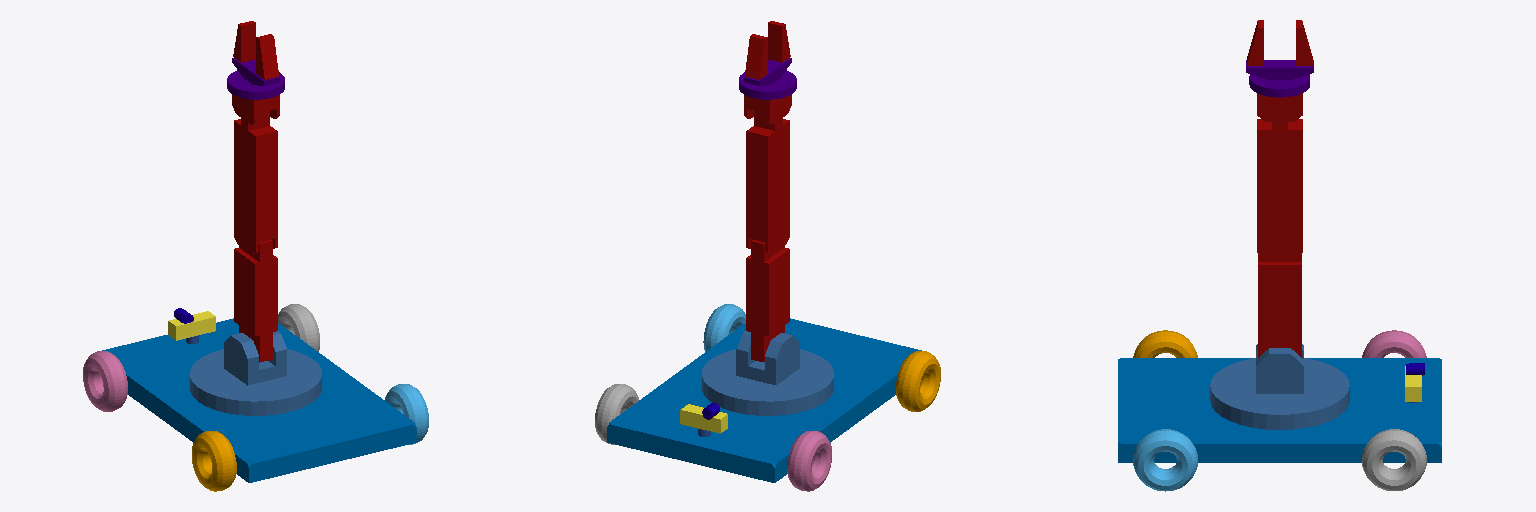
URDF robot description (arm_v2):
<?xml version="1.0"?>
<!-- created with Phobos 1.0.1 "Capricious Choutengan" -->
  <robot name="arm_v2">

    <link name="Back_L">
      <inertial>
        <origin xyz="0 0 0" rpy="0 0 0"/>
        <mass value="0.001"/>
        <inertia ixx="0.001" ixy="0" ixz="0" iyy="0.001" iyz="0" izz="0.001"/>
      </inertial>
      <visual name="Back_wheel_L">
        <origin xyz="0 0 0" rpy="0 0 0"/>
        <geometry>
          <mesh filename="package://my_arm_description/meshes/dae/Torus.002.dae" scale="0.53225 0.53225 0.6753"/>
        </geometry>
      </visual>
      <collision name="Back_wheel_L.000">
        <origin xyz="0 0 0" rpy="0 0 0"/>
        <geometry>
          <mesh filename="package://my_arm_description/meshes/dae/Torus.001.dae" scale="1.0 1.0 1.0"/>
        </geometry>
      </collision>
    </link>

    <link name="Back_R">
      <inertial>
        <origin xyz="0 0 0" rpy="0 0 0"/>
        <mass value="0.001"/>
        <inertia ixx="0.001" ixy="0" ixz="0" iyy="0.001" iyz="0" izz="0.001"/>
      </inertial>
      <visual name="Back_wheel_R">
        <origin xyz="0 0 0" rpy="0 0 0"/>
        <geometry>
          <mesh filename="package://my_arm_description/meshes/dae/Torus.005.dae" scale="0.53225 0.53225 0.6753"/>
        </geometry>
      </visual>
      <collision name="Back_wheel_R.000">
        <origin xyz="0 0 0" rpy="0 0 0"/>
        <geometry>
          <mesh filename="package://my_arm_description/meshes/dae/Torus.000.dae" scale="1.0 1.0 1.0"/>
        </geometry>
      </collision>
    </link>

    <link name="Base">
      <inertial>
        <origin xyz="0 0 0" rpy="0 0 0"/>
        <mass value="0.001"/>
        <inertia ixx="0.001" ixy="0" ixz="0" iyy="0.001" iyz="0" izz="0.001"/>
      </inertial>
      <visual name="Base Link">
        <origin xyz="0 0 0" rpy="0 0 0"/>
        <geometry>
          <mesh filename="package://my_arm_description/meshes/dae/Circle.dae" scale="1.68886 1.68886 1.68886"/>
        </geometry>
        <material name="Material.003"/>
      </visual>
    </link>

    <link name="Base_Link">
      <inertial>
        <origin xyz="0 0 0" rpy="0 0 0"/>
        <mass value="0.001"/>
        <inertia ixx="0.001" ixy="0" ixz="0" iyy="0.001" iyz="0" izz="0.001"/>
      </inertial>
      <visual name="Base Joint">
        <origin xyz="0 0 0" rpy="0 0 0"/>
        <geometry>
          <mesh filename="package://my_arm_description/meshes/dae/Plane.001.dae" scale="0.58732 0.58732 0.58732"/>
        </geometry>
        <material name="Material.003"/>
      </visual>
    </link>

    <link name="Chassis">
      <inertial>
        <origin xyz="0 0 0" rpy="0 0 0"/>
        <mass value="0.001"/>
        <inertia ixx="0.001" ixy="0" ixz="0" iyy="0.001" iyz="0" izz="0.001"/>
      </inertial>
      <visual name="Chassis.001">
        <origin xyz="0 0 0" rpy="0 0 0"/>
        <geometry>
          <mesh filename="package://my_arm_description/meshes/dae/Plane.dae" scale="2.0198 2.0198 2.0198"/>
        </geometry>
      </visual>
      <collision name="Chassis.001">
        <origin xyz="0 0 0.23159" rpy="0 0 0"/>
        <geometry>
          <box size="4.91757 7.82779 0.52576"/>
        </geometry>
      </collision>
    </link>

    <link name="Elbow">
      <inertial>
        <origin xyz="0 0 0" rpy="0 0 0"/>
        <mass value="0.001"/>
        <inertia ixx="0.001" ixy="0" ixz="0" iyy="0.001" iyz="0" izz="0.001"/>
      </inertial>
      <visual name="Elbow.001">
        <origin xyz="0 0 0" rpy="0 0 0"/>
        <geometry>
          <mesh filename="package://my_arm_description/meshes/dae/Plane.002.dae" scale="0.32111 0.55187 0.37191"/>
        </geometry>
        <material name="Material.004"/>
      </visual>
    </link>

    <link name="Front_L">
      <inertial>
        <origin xyz="0 0 0" rpy="0 0 0"/>
        <mass value="0.001"/>
        <inertia ixx="0.001" ixy="0" ixz="0" iyy="0.001" iyz="0" izz="0.001"/>
      </inertial>
      <visual name="Front_Wheel_L">
        <origin xyz="0 0 0" rpy="0 0 0"/>
        <geometry>
          <mesh filename="package://my_arm_description/meshes/dae/Torus.007.dae" scale="0.53225 0.53225 0.6753"/>
        </geometry>
      </visual>
      <collision name="Front_Wheel_L.000">
        <origin xyz="0 0 0" rpy="0 0 0"/>
        <geometry>
          <mesh filename="package://my_arm_description/meshes/dae/Torus.004.dae" scale="1.0 1.0 1.0"/>
        </geometry>
      </collision>
    </link>

    <link name="Front_R">
      <inertial>
        <origin xyz="0 0 0" rpy="0 0 0"/>
        <mass value="0.001"/>
        <inertia ixx="0.001" ixy="0" ixz="0" iyy="0.001" iyz="0" izz="0.001"/>
      </inertial>
      <visual name="Front_Wheel_R">
        <origin xyz="0 0 0" rpy="0 0 0"/>
        <geometry>
          <mesh filename="package://my_arm_description/meshes/dae/Torus.008.dae" scale="0.53225 0.53225 0.6753"/>
        </geometry>
      </visual>
      <collision name="Front_Wheel_R.000">
        <origin xyz="0 0 0" rpy="0 0 0"/>
        <geometry>
          <mesh filename="package://my_arm_description/meshes/dae/Torus.003.dae" scale="1.0 1.0 1.0"/>
        </geometry>
      </collision>
    </link>

    <link name="Gripper_Base">
      <inertial>
        <origin xyz="0 0 0" rpy="0 0 0"/>
        <mass value="0.001"/>
        <inertia ixx="0.001" ixy="0" ixz="0" iyy="0.001" iyz="0" izz="0.001"/>
      </inertial>
      <visual name="Gripper Base">
        <origin xyz="0 0 0" rpy="0 0 0"/>
        <geometry>
          <mesh filename="package://my_arm_description/meshes/dae/Plane.005.dae" scale="0.64948 0.64948 0.64948"/>
        </geometry>
        <material name="Black"/>
      </visual>
    </link>

    <link name="Gripper_L">
      <inertial>
        <origin xyz="0 0 0" rpy="0 0 0"/>
        <mass value="0.001"/>
        <inertia ixx="0.001" ixy="0" ixz="0" iyy="0.001" iyz="0" izz="0.001"/>
      </inertial>
      <visual name="Gripper_L.001">
        <origin xyz="0 0 0" rpy="0 0 0"/>
        <geometry>
          <mesh filename="package://my_arm_description/meshes/dae/Plane.003.dae" scale="0.78569 0.78569 0.78569"/>
        </geometry>
        <material name="Material.004"/>
      </visual>
    </link>

    <link name="Gripper_R">
      <inertial>
        <origin xyz="0 0 0" rpy="0 0 0"/>
        <mass value="0.001"/>
        <inertia ixx="0.001" ixy="0" ixz="0" iyy="0.001" iyz="0" izz="0.001"/>
      </inertial>
      <visual name="Gripper_R.001">
        <origin xyz="0 0 0" rpy="0 0 0"/>
        <geometry>
          <mesh filename="package://my_arm_description/meshes/dae/Plane.007.dae" scale="0.78569 -0.78569 0.78569"/>
        </geometry>
        <material name="Material.004"/>
      </visual>
    </link>

    <link name="Sensor">
      <inertial>
        <origin xyz="0 0 0" rpy="0 0 0"/>
        <mass value="0.001"/>
        <inertia ixx="0.001" ixy="0" ixz="0" iyy="0.001" iyz="0" izz="0.001"/>
      </inertial>
      <visual name="Cube">
        <origin xyz="0 0.00063 0.15515" rpy="0 0 0"/>
        <geometry>
          <mesh filename="package://my_arm_description/meshes/dae/Cube.002.dae" scale="0.58884 0.20167 0.20167"/>
        </geometry>
      </visual>
      <visual name="Left_eye">
        <origin xyz="-0.20507 0.0194 0.43971" rpy="1.5708 0 0"/>
        <geometry>
          <cylinder radius="0.148" length="0.39103"/>
        </geometry>
        <material name="Material.001"/>
      </visual>
      <visual name="Right_eye">
        <origin xyz="-0.24517 0.08001 0.45292" rpy="1.5708 0 0"/>
        <geometry>
          <cylinder radius="0.148" length="0.39103"/>
        </geometry>
        <material name="Material.001"/>
      </visual>
      <visual name="Sensor.001">
        <origin xyz="0 0 0" rpy="0 0 0"/>
        <geometry>
          <cylinder radius="0.16173" length="0.71109"/>
        </geometry>
        <material name="turnarrow"/>
      </visual>
      <collision name="Cube">
        <origin xyz="0 0.00063 0.15515" rpy="0 0 0"/>
        <geometry>
          <box size="1.17768 0.40335 0.40335"/>
        </geometry>
      </collision>
    </link>

    <link name="Shoulder">
      <inertial>
        <origin xyz="0 0 0" rpy="0 0 0"/>
        <mass value="0.001"/>
        <inertia ixx="0.001" ixy="0" ixz="0" iyy="0.001" iyz="0" izz="0.001"/>
      </inertial>
      <visual name="Arm link">
        <origin xyz="0 0 0" rpy="0 0 0"/>
        <geometry>
          <mesh filename="package://my_arm_description/meshes/dae/Cube.001.dae" scale="0.19211 0.52371 0.19211"/>
        </geometry>
        <material name="Material.004"/>
      </visual>
    </link>

    <link name="Wrist">
      <inertial>
        <origin xyz="0 0 0" rpy="0 0 0"/>
        <mass value="0.001"/>
        <inertia ixx="0.001" ixy="0" ixz="0" iyy="0.001" iyz="0" izz="0.001"/>
      </inertial>
      <visual name="Wrist link">
        <origin xyz="0 0 0" rpy="0 0 0"/>
        <geometry>
          <mesh filename="package://my_arm_description/meshes/dae/Circle.001.dae" scale="1.0 1.0 1.0"/>
        </geometry>
        <material name="Black"/>
      </visual>
    </link>

    <link name="Wrist_Link">
      <inertial>
        <origin xyz="0 0 0" rpy="0 0 0"/>
        <mass value="0.001"/>
        <inertia ixx="0.001" ixy="0" ixz="0" iyy="0.001" iyz="0" izz="0.001"/>
      </inertial>
      <visual name="Wrist Joint">
        <origin xyz="0 0 0" rpy="0 0 0"/>
        <geometry>
          <mesh filename="package://my_arm_description/meshes/dae/Plane.004.dae" scale="0.55526 0.55526 0.55526"/>
        </geometry>
        <material name="Material.004"/>
      </visual>
    </link>

    <joint name="Back_L" type="continuous">
      <origin xyz="-2.82349 -2.76626 0.21895" rpy="1.5708 0 1.5708"/>
      <parent link="Chassis"/>
      <child link="Back_L"/>
      <axis xyz="0 0 1.0"/>
      <limit effort="0" velocity="0"/>
    </joint>

    <joint name="Back_R" type="continuous">
      <origin xyz="2.82626 -2.76626 0.21895" rpy="1.5708 0 1.5708"/>
      <parent link="Chassis"/>
      <child link="Back_R"/>
      <axis xyz="0 0 1.0"/>
      <limit effort="0" velocity="0"/>
    </joint>

    <joint name="Base" type="continuous">
      <origin xyz="0 0 0.49075" rpy="0 0 0"/>
      <parent link="Chassis"/>
      <child link="Base"/>
      <axis xyz="0 0 1.0"/>
      <limit effort="0" velocity="0"/>
    </joint>

    <joint name="Base_Link" type="fixed">
      <origin xyz="0 0 0.44296" rpy="0 0 0"/>
      <parent link="Base"/>
      <child link="Base_Link"/>
    </joint>

    <joint name="Elbow" type="revolute">
      <origin xyz="-0.00527 -0.00012 3.29883" rpy="0 0 0"/>
      <parent link="Shoulder"/>
      <child link="Elbow"/>
      <axis xyz="0 1.0 0"/>
      <limit lower="-1.0472" upper="1.0472" effort="0" velocity="0"/>
    </joint>

    <joint name="Front_L" type="continuous">
      <origin xyz="-2.82349 2.76626 0.21895" rpy="1.5708 0 1.5708"/>
      <parent link="Chassis"/>
      <child link="Front_L"/>
      <axis xyz="0 0 1.0"/>
      <limit effort="0" velocity="0"/>
    </joint>

    <joint name="Front_R" type="continuous">
      <origin xyz="2.82349 2.76626 0.21895" rpy="1.5708 0 1.5708"/>
      <parent link="Chassis"/>
      <child link="Front_R"/>
      <axis xyz="0 0 1.0"/>
      <limit effort="0" velocity="0"/>
    </joint>

    <joint name="Gripper_Base" type="fixed">
      <origin xyz="0 0 0.22154" rpy="0 0 0"/>
      <parent link="Wrist"/>
      <child link="Gripper_Base"/>
    </joint>

    <joint name="Gripper_L" type="prismatic">
      <origin xyz="0 -0.5924 0.36401" rpy="0 0 0"/>
      <parent link="Gripper_Base"/>
      <child link="Gripper_L"/>
      <axis xyz="0 -1.0 0"/>
      <limit lower="-0.355" upper="0" effort="0" velocity="0"/>
    </joint>

    <joint name="Gripper_R" type="prismatic">
      <origin xyz="0 0.59447 0.36401" rpy="0 0 0"/>
      <parent link="Gripper_Base"/>
      <child link="Gripper_R"/>
      <axis xyz="0 1.0 0"/>
      <limit lower="-0.355" upper="0" effort="0" velocity="0"/>
    </joint>

    <joint name="Sensor" type="revolute">
      <origin xyz="0 3.23307 0.77739" rpy="0 0 0"/>
      <parent link="Chassis"/>
      <child link="Sensor"/>
      <axis xyz="0 0 1.0"/>
      <limit lower="-1.5572" upper="1.5572" effort="0" velocity="0"/>
    </joint>

    <joint name="Shoulder" type="revolute">
      <origin xyz="0 0 0.72067" rpy="0 0 0"/>
      <parent link="Base_Link"/>
      <child link="Shoulder"/>
      <axis xyz="0 1.0 0"/>
      <limit lower="-0.52" upper="0.52" effort="0" velocity="0"/>
    </joint>

    <joint name="Wrist" type="continuous">
      <origin xyz="0 0 0.76917" rpy="0 0 0"/>
      <parent link="Wrist_Link"/>
      <child link="Wrist"/>
      <axis xyz="0 0 1.0"/>
      <limit effort="0" velocity="0"/>
    </joint>

    <joint name="Wrist_Link" type="revolute">
      <origin xyz="0.01262 -0.00092 3.20476" rpy="0 0 0"/>
      <parent link="Elbow"/>
      <child link="Wrist_Link"/>
      <axis xyz="0 1.0 0"/>
      <limit lower="-1.5572" upper="1.5572" effort="0" velocity="0"/>
    </joint>

    <material name="Black">
      <color rgba="0.33 0 0.55 1.0"/>
    </material>

    <material name="Material.001">
      <color rgba="0.12414 0 0.64 1.0"/>
    </material>

    <material name="Material.003">
      <color rgba="0.26341 0.4495 0.64 1.0"/>
    </material>

    <material name="Material.004">
      <color rgba="0.64 0.05413 0.04581 1.0"/>
    </material>

    <material name="turnarrow">
      <color rgba="0.18701 0.35775 0.64 1.0"/>
    </material>

  </robot>

--- Facts derived from the render (not from the file) ---
The picture shows the robot from 3 angles, left to right: view 1: azimuth 30°, elevation 25°; view 2: azimuth 150°, elevation 25°; view 3: azimuth 270°, elevation 25°; orthographic projection.
Robot: arm_v2 — 15 links, 14 joints (4 revolute, 6 continuous, 2 prismatic, 2 fixed); root link Chassis; default pose: all joints at 0.
Links seen in each view (by area): view 1: Chassis, Base, Elbow, Shoulder, Base_Link, Front_L, Back_L, Back_R, Sensor, Front_R, Wrist, Wrist_Link (+3 smaller); view 2: Chassis, Base, Elbow, Shoulder, Base_Link, Back_L, Front_L, Front_R, Back_R, Sensor, Wrist, Wrist_Link (+3 smaller); view 3: Chassis, Base, Elbow, Shoulder, Back_R, Front_R, Base_Link, Back_L, Front_L, Wrist_Link, Wrist, Gripper_Base (+3 smaller).
Link boxes in pixels (x1,y1,x2,y2): Chassis: (102,318,416,482); Base: (190,349,321,415); Elbow: (234,111,277,254); Shoulder: (234,240,277,362); Base_Link: (224,331,286,385); Front_L: (83,351,127,411); Back_L: (192,431,236,491); Back_R: (385,384,428,444); Sensor: (168,308,215,343); Front_R: (278,304,319,351); Wrist: (227,70,284,99); Wrist_Link: (232,94,279,124); Chassis: (607,318,921,482); Base: (702,349,833,415); Elbow: (746,111,789,254); Shoulder: (746,240,789,361); Base_Link: (736,331,799,385); Back_L: (896,351,940,411); Front_L: (787,431,831,491); Front_R: (595,384,638,444); Back_R: (703,304,745,351); Sensor: (680,403,727,436); Wrist: (739,70,796,99); Wrist_Link: (744,94,791,124); Chassis: (1118,358,1441,462); Base: (1210,358,1349,429); Elbow: (1257,119,1302,257); Shoulder: (1258,253,1301,357); Back_R: (1133,429,1197,491); Front_R: (1362,429,1426,490); Base_Link: (1256,344,1303,393); Back_L: (1133,330,1197,357); Front_L: (1362,330,1426,357); Wrist_Link: (1257,93,1302,121); Wrist: (1249,74,1309,97); Gripper_Base: (1246,60,1313,79).
Size in the robot's own frame: 6.31 by 7.83 by 11.11 metres.
Meshes: 15 distinct files referenced, 15 mesh visuals loaded (15 Collada DAE).